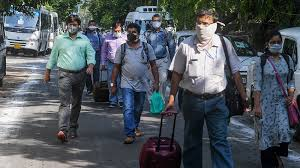mask: (195, 13, 213, 39), (268, 34, 281, 54), (66, 15, 79, 32), (126, 23, 139, 40), (151, 14, 162, 27), (113, 24, 122, 37), (88, 21, 96, 31)
